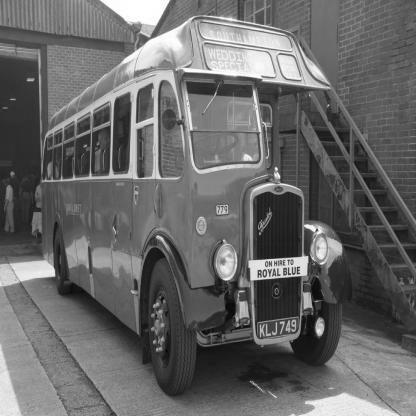bus: (16, 20, 378, 386)
